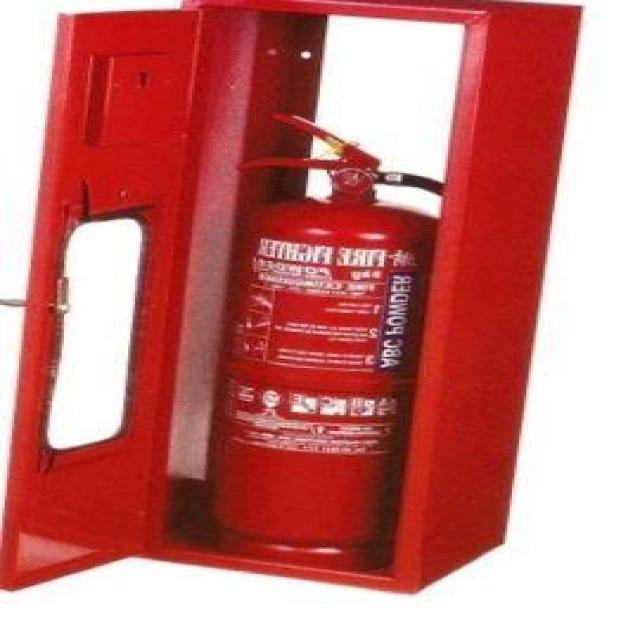fire_extinguisher: (184, 104, 508, 577)
